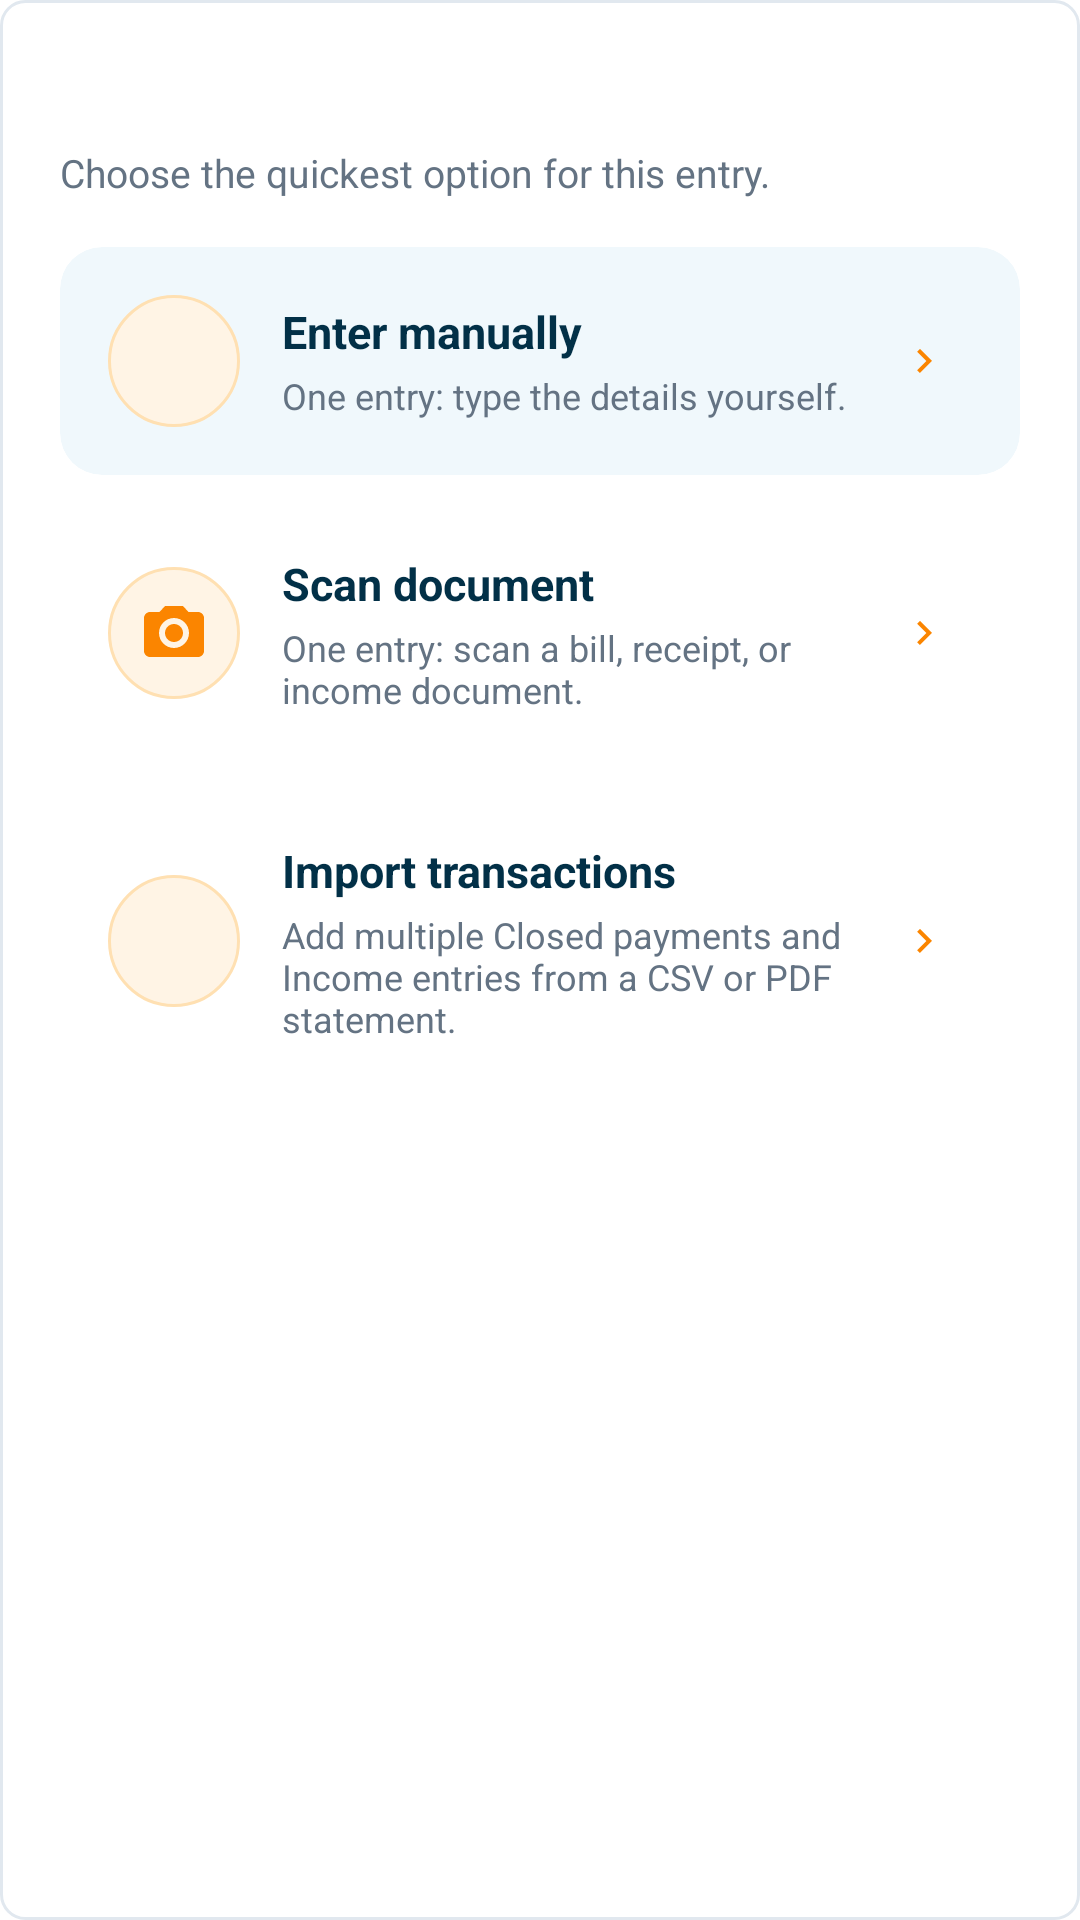

Where to tap for icons on this 1080w x 1920h app screen, as [x,y]:
camera: [174,633]
